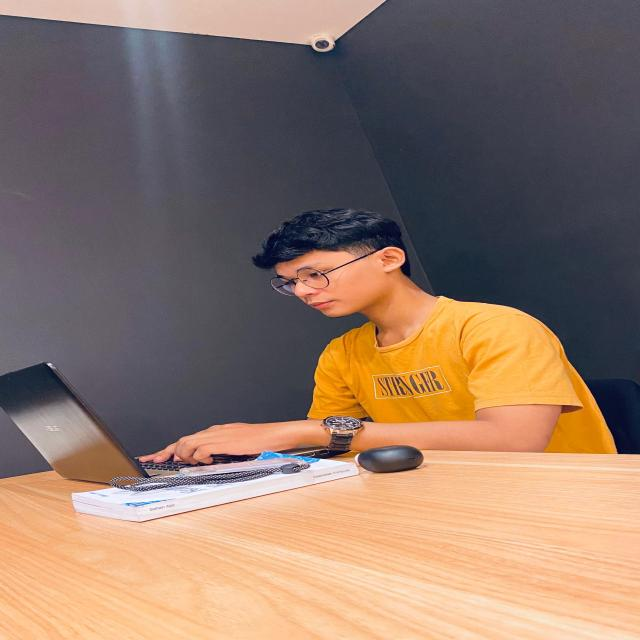nohelmet: (253, 198, 423, 318)
